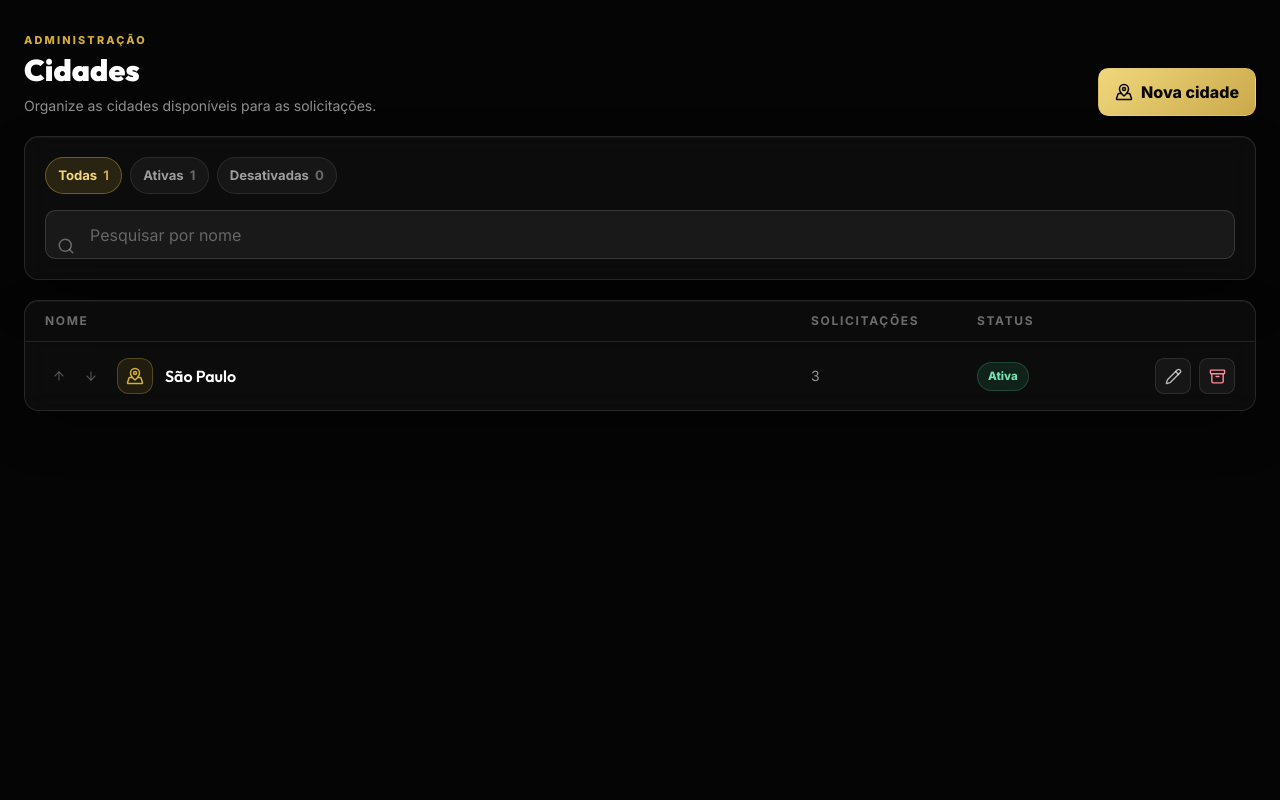
it: CitiesPanel › não deixa resposta atrasada de rename vencer um UPDATE Realtime posterior
Click the button named "Renomear São Paulo" at (1173, 376), box [1155,358,1191,394]
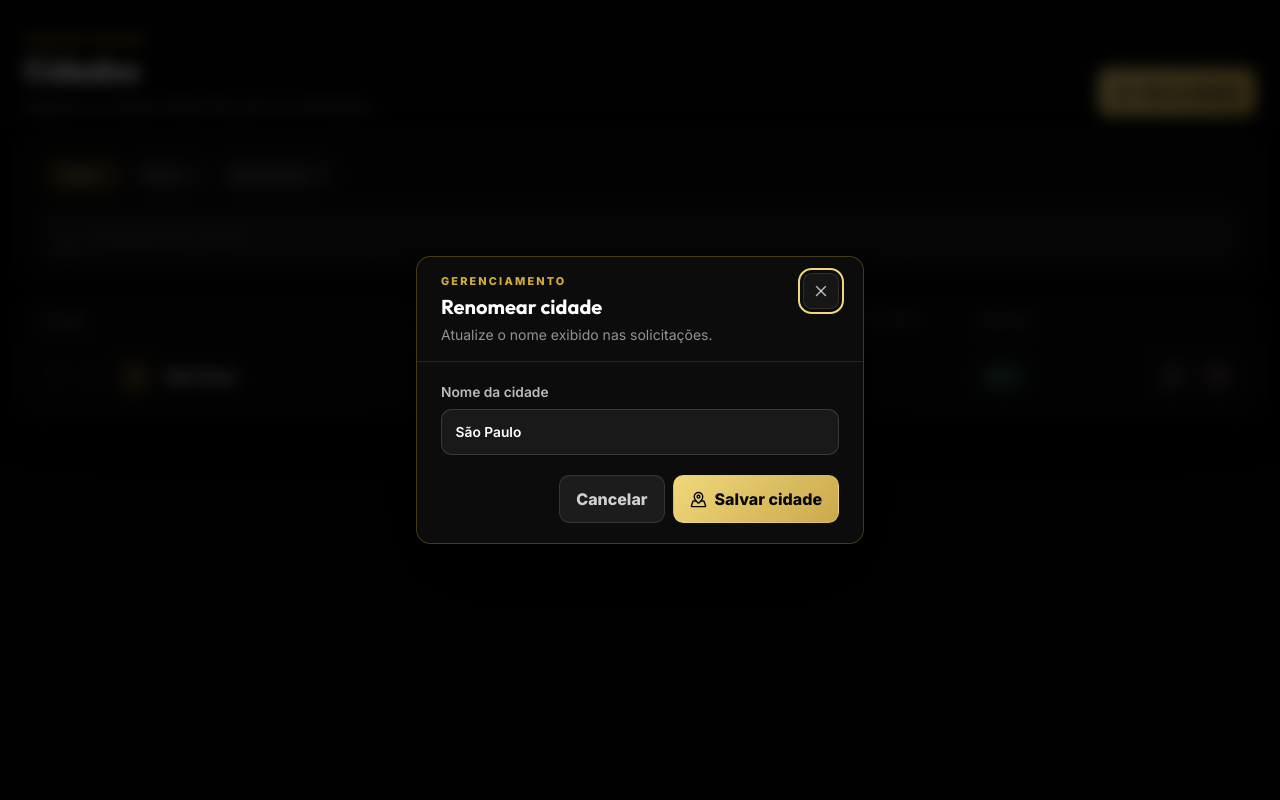
Replace the text in the field labelled "Nome da cidade" with "São Paulo Local" at (640, 432), box [441,409,839,455]
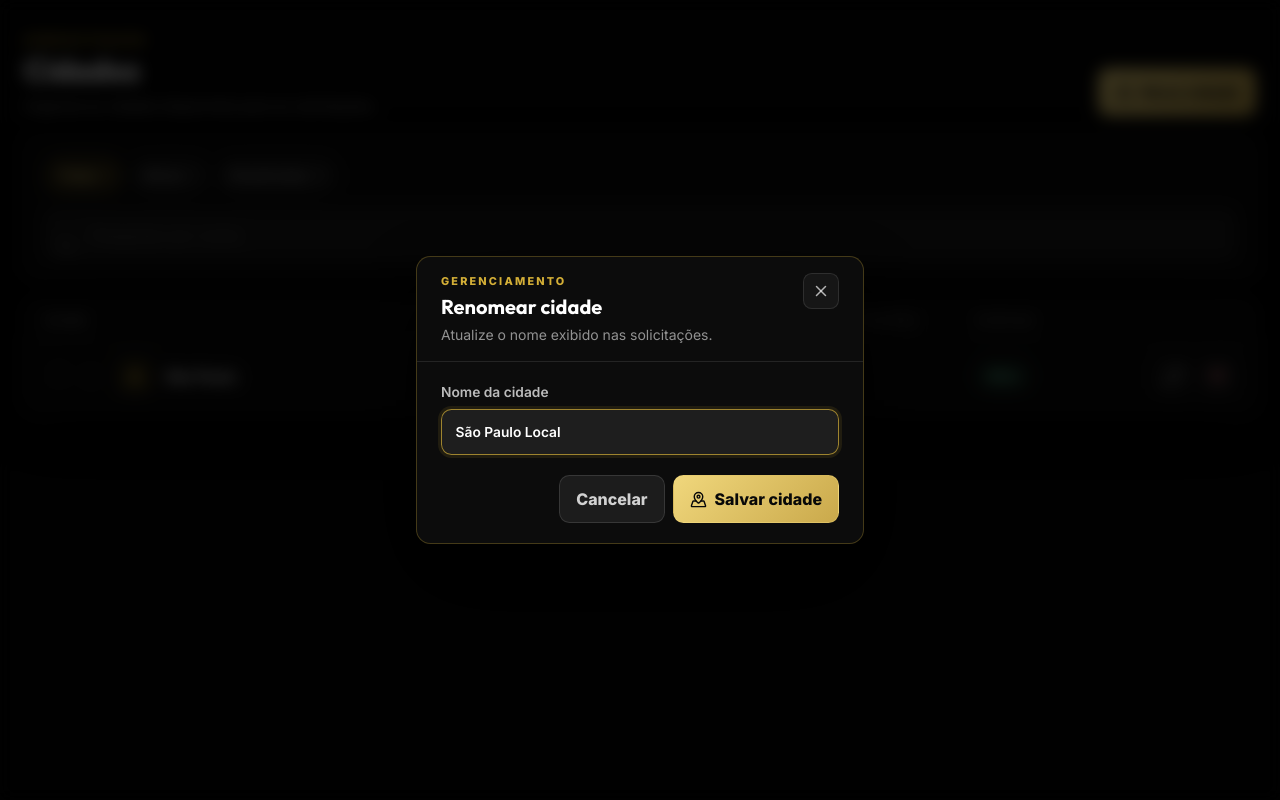
Click the button "Salvar cidade" at (756, 499), box [672,475,839,523]
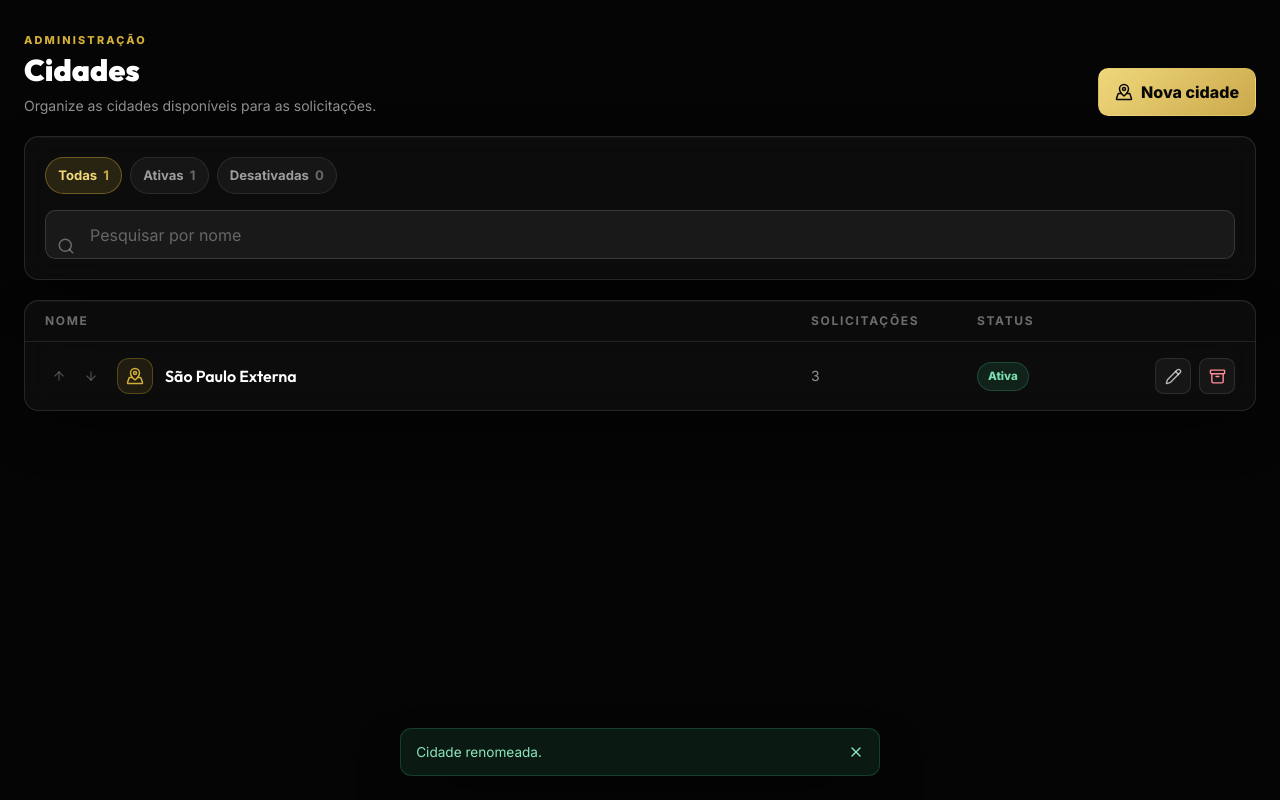
Check: the text "São Paulo Local" is not shown
Check: the heading "São Paulo Externa" is shown, box [165,364,297,388]
